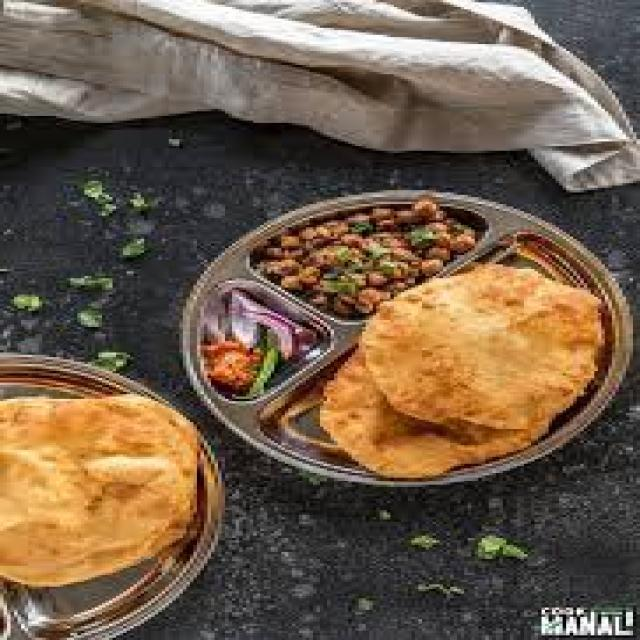puri: (359, 264, 598, 429)
